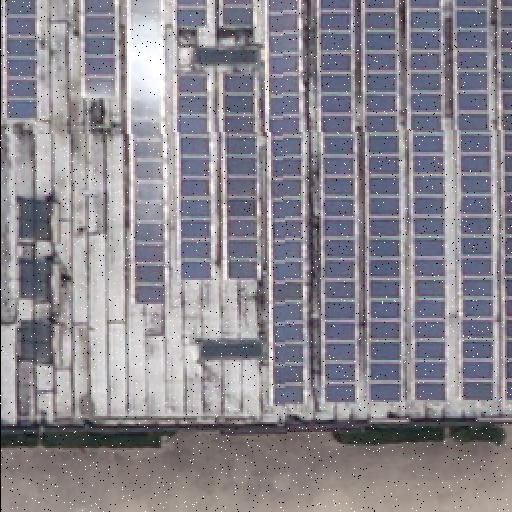solar-panel: (267, 0, 512, 409), (120, 0, 266, 322), (62, 0, 116, 120), (3, 0, 45, 125)
